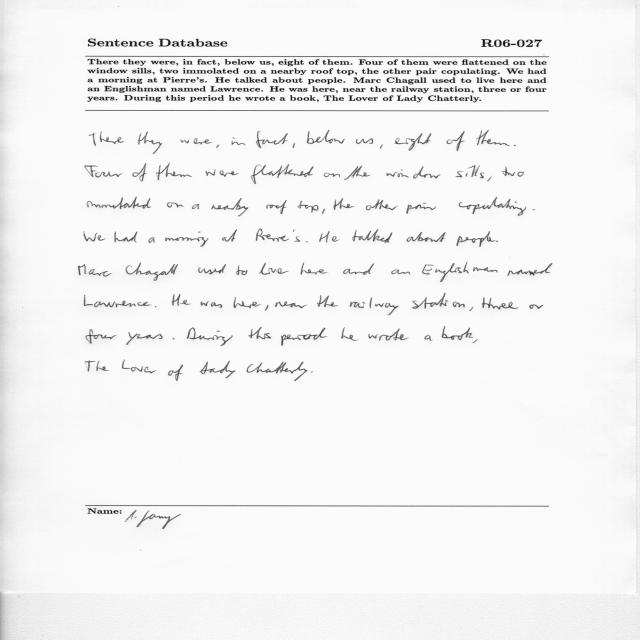word: (422, 262, 498, 282), (459, 197, 526, 216), (251, 164, 314, 184), (247, 362, 308, 381), (126, 263, 178, 281), (187, 327, 233, 346), (412, 293, 465, 309), (350, 298, 399, 315), (281, 328, 327, 346), (84, 295, 151, 307), (87, 197, 151, 209), (387, 166, 441, 179), (395, 133, 432, 151), (212, 198, 249, 216), (165, 232, 208, 247), (457, 231, 496, 247), (156, 164, 192, 181), (200, 361, 236, 378), (508, 263, 553, 276), (352, 229, 393, 243), (256, 229, 300, 242), (138, 131, 162, 154), (256, 131, 288, 148), (476, 130, 510, 146), (307, 130, 345, 144), (368, 329, 409, 341), (89, 132, 124, 146), (85, 165, 122, 178), (126, 332, 163, 345), (482, 297, 518, 310), (86, 329, 116, 344), (442, 326, 474, 340), (78, 264, 112, 277), (122, 361, 156, 373), (407, 232, 446, 242), (446, 131, 465, 151), (343, 263, 374, 275), (344, 166, 370, 180), (456, 165, 484, 178), (366, 200, 398, 211), (259, 263, 288, 275), (406, 203, 436, 214), (301, 263, 328, 275), (233, 297, 261, 308), (266, 200, 287, 214), (85, 360, 109, 372), (198, 264, 226, 274), (248, 327, 271, 339), (132, 164, 147, 182), (206, 169, 239, 177), (168, 364, 183, 381), (115, 232, 138, 243), (298, 201, 319, 213), (334, 198, 355, 210), (317, 295, 338, 307), (172, 294, 191, 306), (275, 302, 307, 309), (342, 327, 358, 341), (502, 167, 524, 177), (319, 231, 339, 242), (222, 229, 237, 242), (181, 139, 213, 145), (84, 233, 105, 242), (201, 301, 222, 308), (236, 265, 248, 275), (232, 138, 246, 146), (356, 138, 373, 144), (167, 202, 183, 208), (391, 270, 410, 275), (530, 304, 544, 309), (323, 173, 340, 177), (424, 335, 433, 341), (149, 237, 155, 243), (192, 204, 199, 209), (265, 305, 269, 311), (487, 177, 491, 182), (473, 339, 478, 343), (470, 307, 474, 311), (322, 209, 325, 214), (380, 145, 383, 149), (293, 143, 295, 148), (217, 145, 220, 148), (496, 241, 498, 243), (173, 338, 175, 340), (514, 145, 516, 146), (533, 209, 535, 210), (155, 306, 157, 307), (311, 372, 313, 373), (306, 242, 307, 243)
